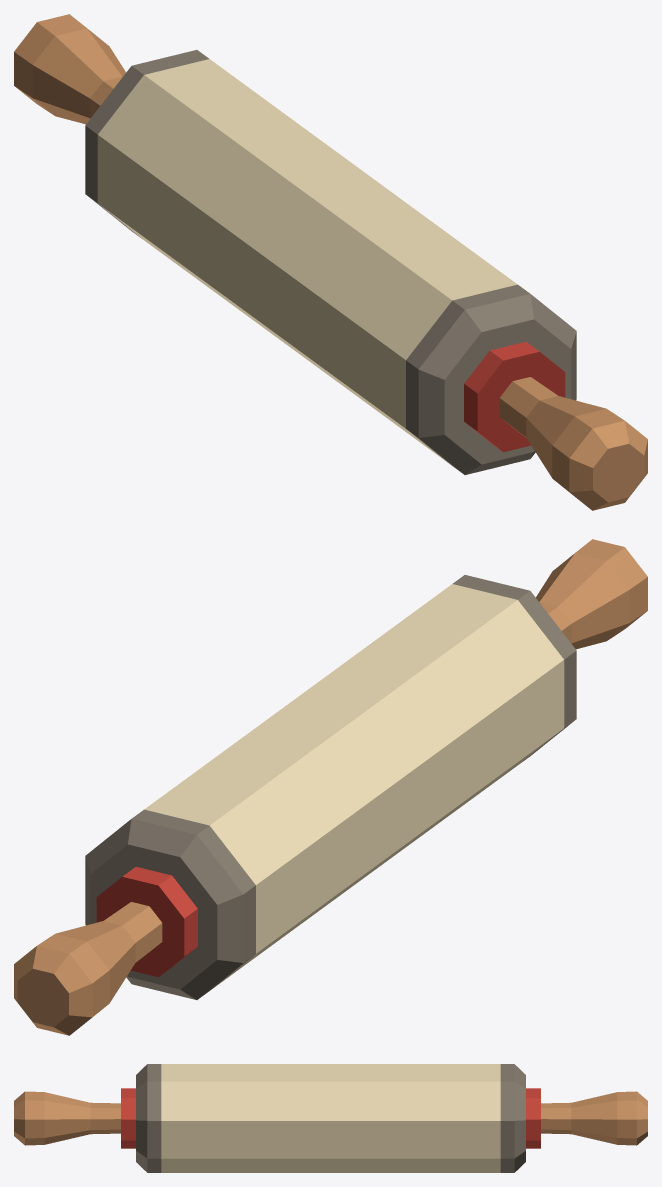
File: FMS_Workshop_TOL_14.fbx
The picture shows the model from 3 angles, top to bottom: view 1: azimuth 30°, elevation 25°; view 2: azimuth 150°, elevation 25°; view 3: azimuth 270°, elevation 25°; orthographic projection. The views are drawn at different scales.
Parts seen in each view (by area): view 1: FMS_Workshop_TOL_14_Body; view 2: FMS_Workshop_TOL_14_Body; view 3: FMS_Workshop_TOL_14_Body.
Part boxes in pixels (left/top/right/bottom): FMS_Workshop_TOL_14_Body: left=14, top=14, right=647, bottom=510; FMS_Workshop_TOL_14_Body: left=14, top=539, right=647, bottom=1035; FMS_Workshop_TOL_14_Body: left=14, top=1064, right=647, bottom=1172.
Bounding box in the file's own units: 0.08 × 0.08 × 0.504.
